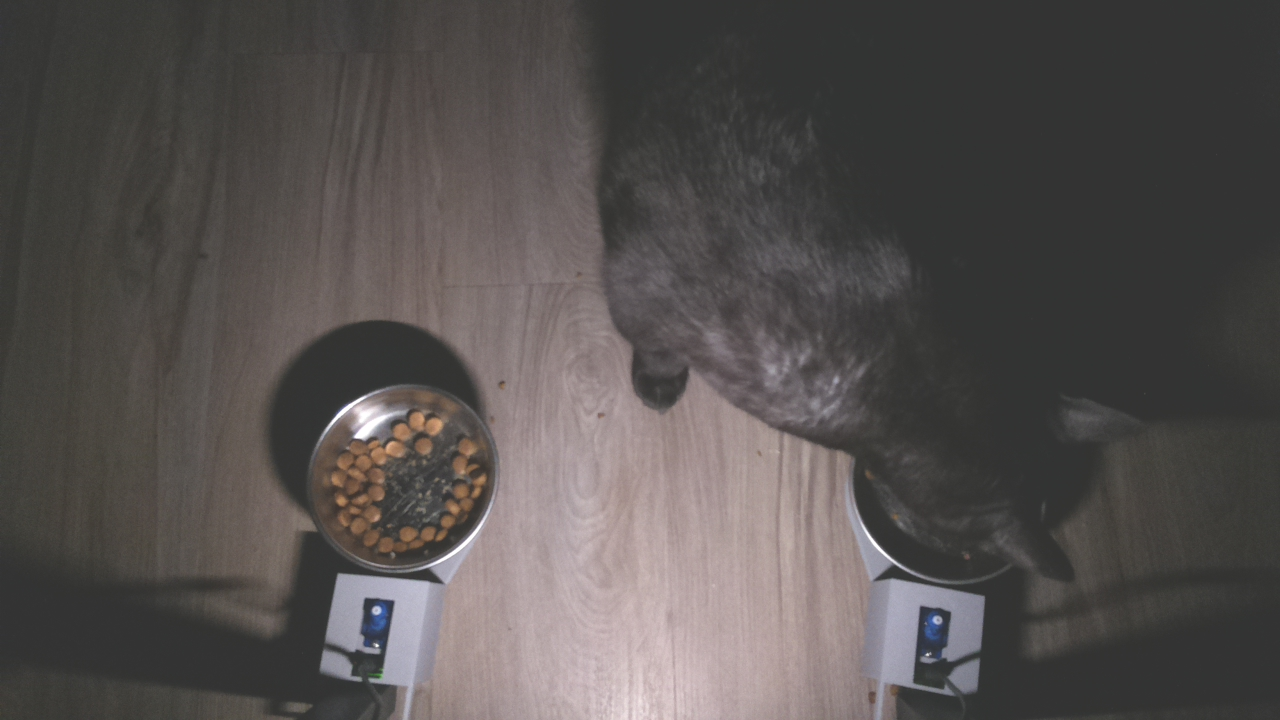open_bowl: (299, 378, 512, 576)
saki_eating: (854, 353, 1162, 587)
